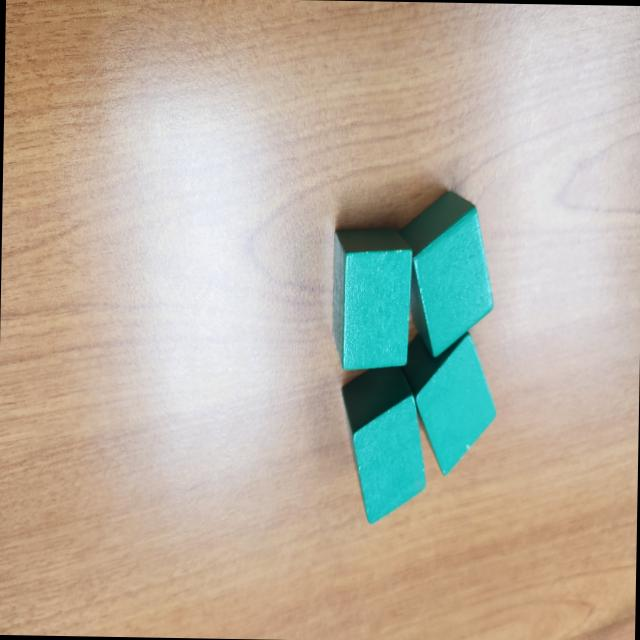green: (396, 188, 498, 360), (400, 328, 497, 478), (338, 365, 428, 524), (332, 225, 414, 372)
